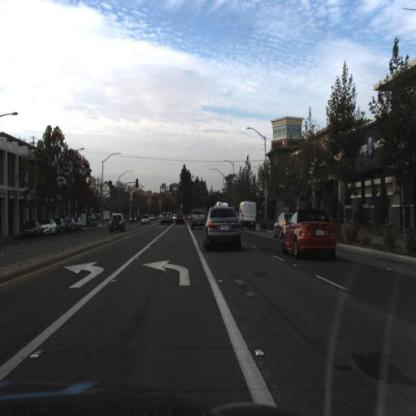car: (280, 211, 337, 260), (204, 202, 243, 253), (239, 198, 261, 234), (107, 211, 128, 237), (107, 212, 127, 233), (57, 216, 84, 231), (192, 209, 210, 231), (22, 222, 42, 241), (38, 218, 59, 236), (41, 218, 57, 239), (141, 213, 154, 228), (161, 212, 173, 227), (176, 212, 186, 227)
truck: (239, 202, 258, 231)
